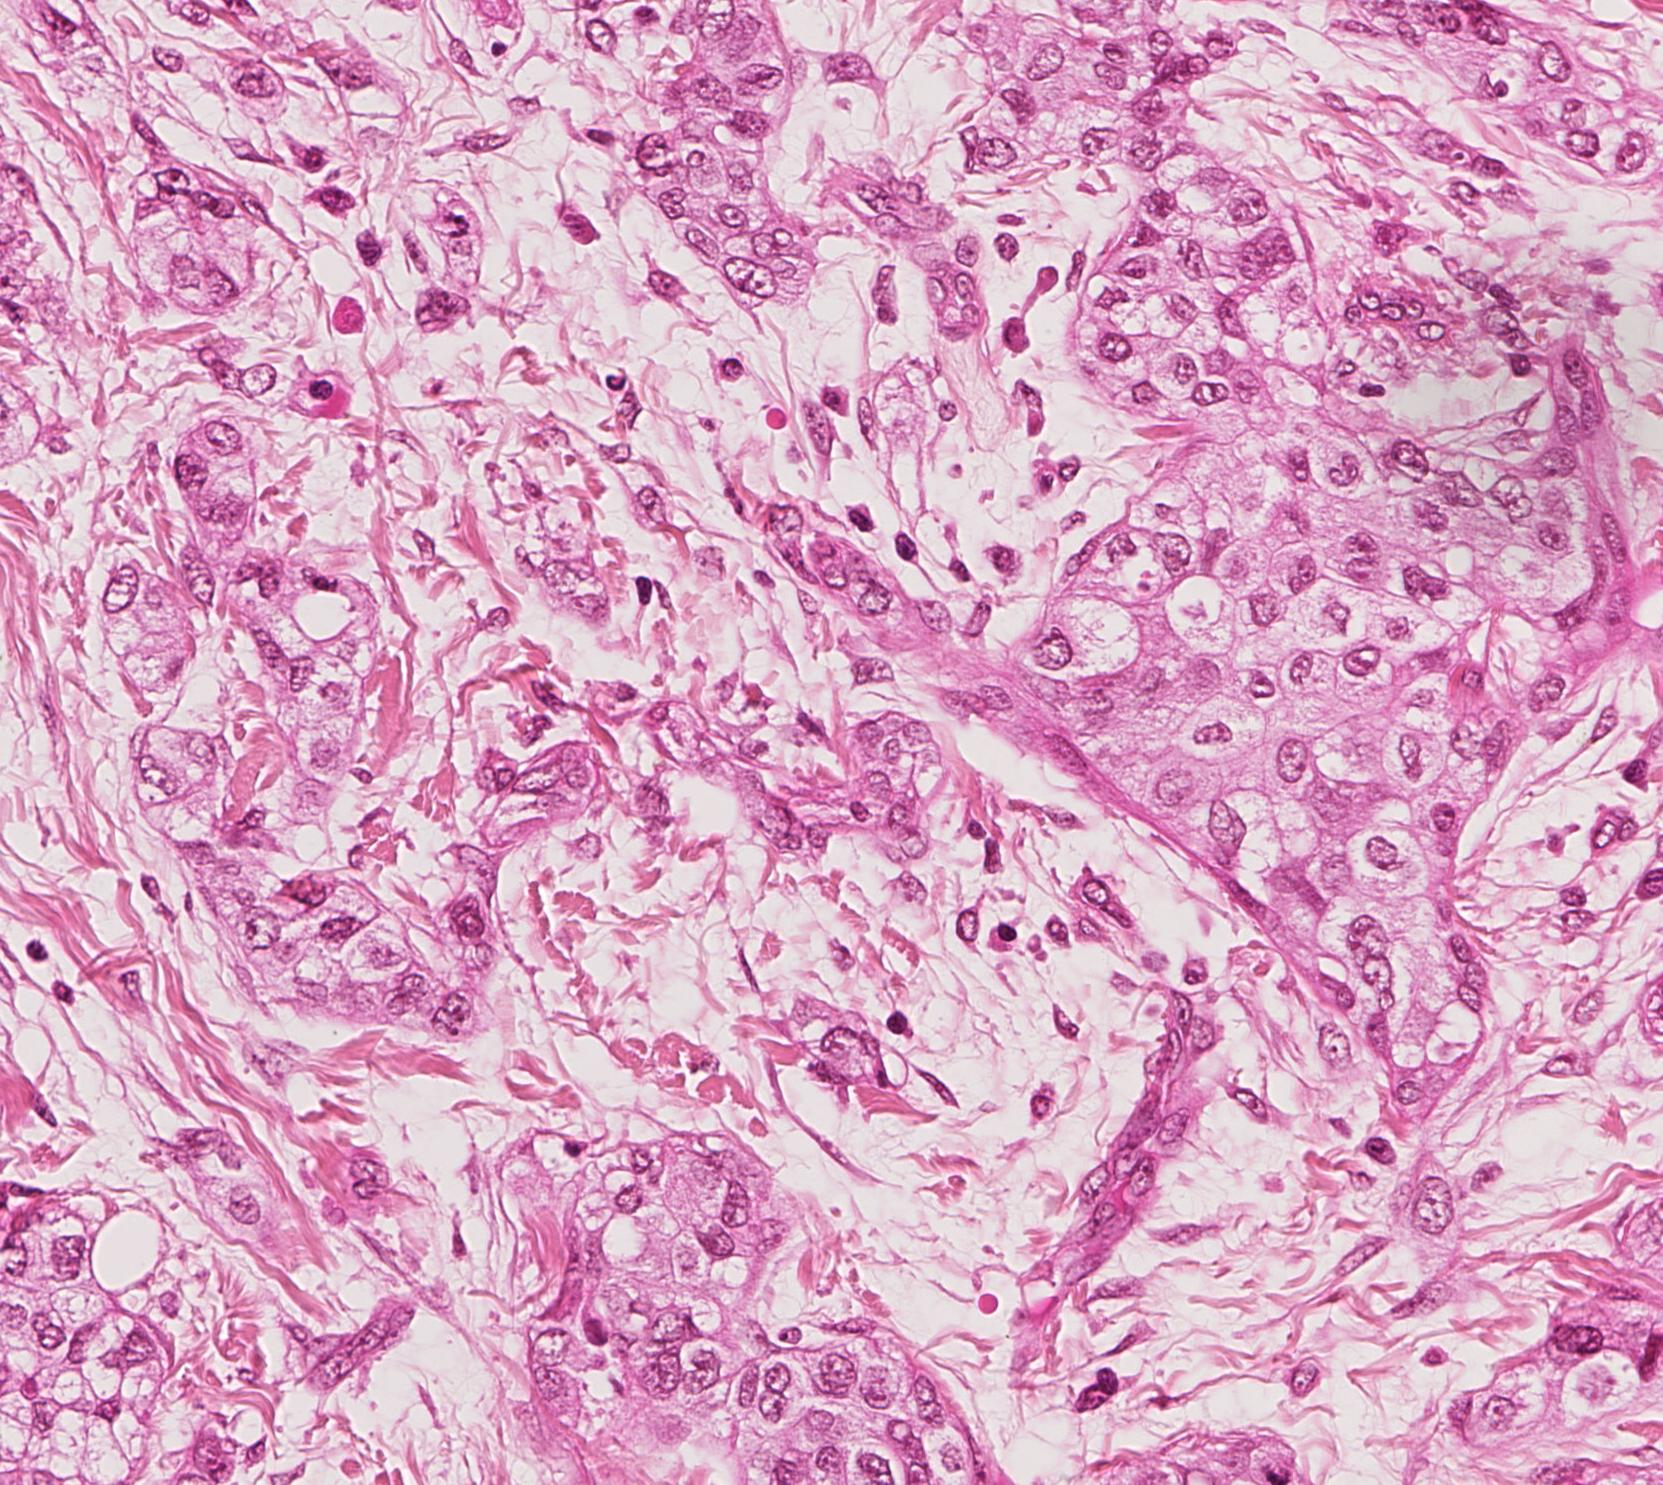mitosis: (1239, 1436, 1297, 1485)
